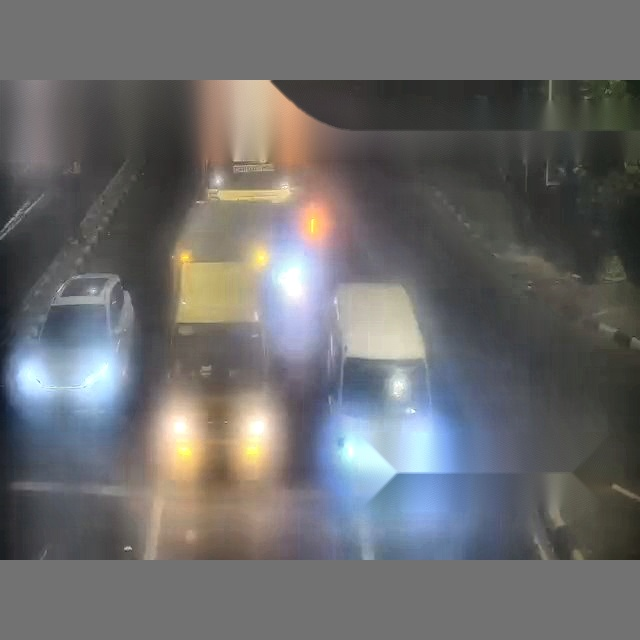Truk: (194, 79, 319, 202)
